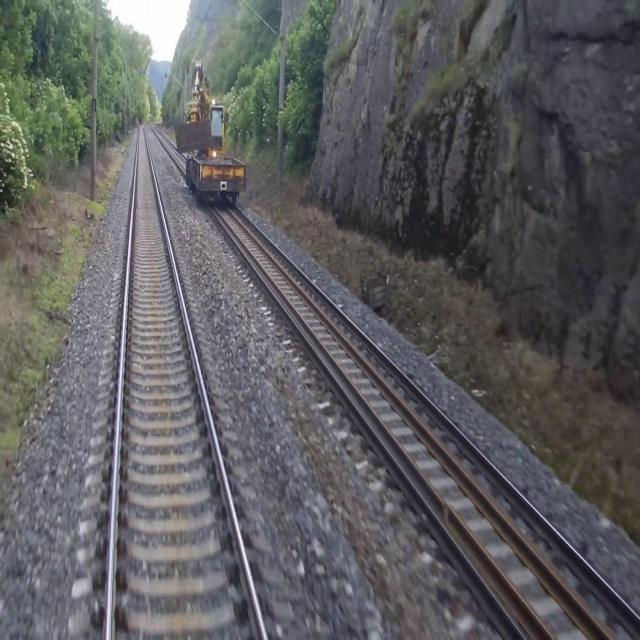rail: (227, 202, 640, 640), (209, 203, 558, 640), (146, 136, 269, 640), (104, 127, 139, 640), (153, 130, 187, 177), (157, 128, 188, 163)
